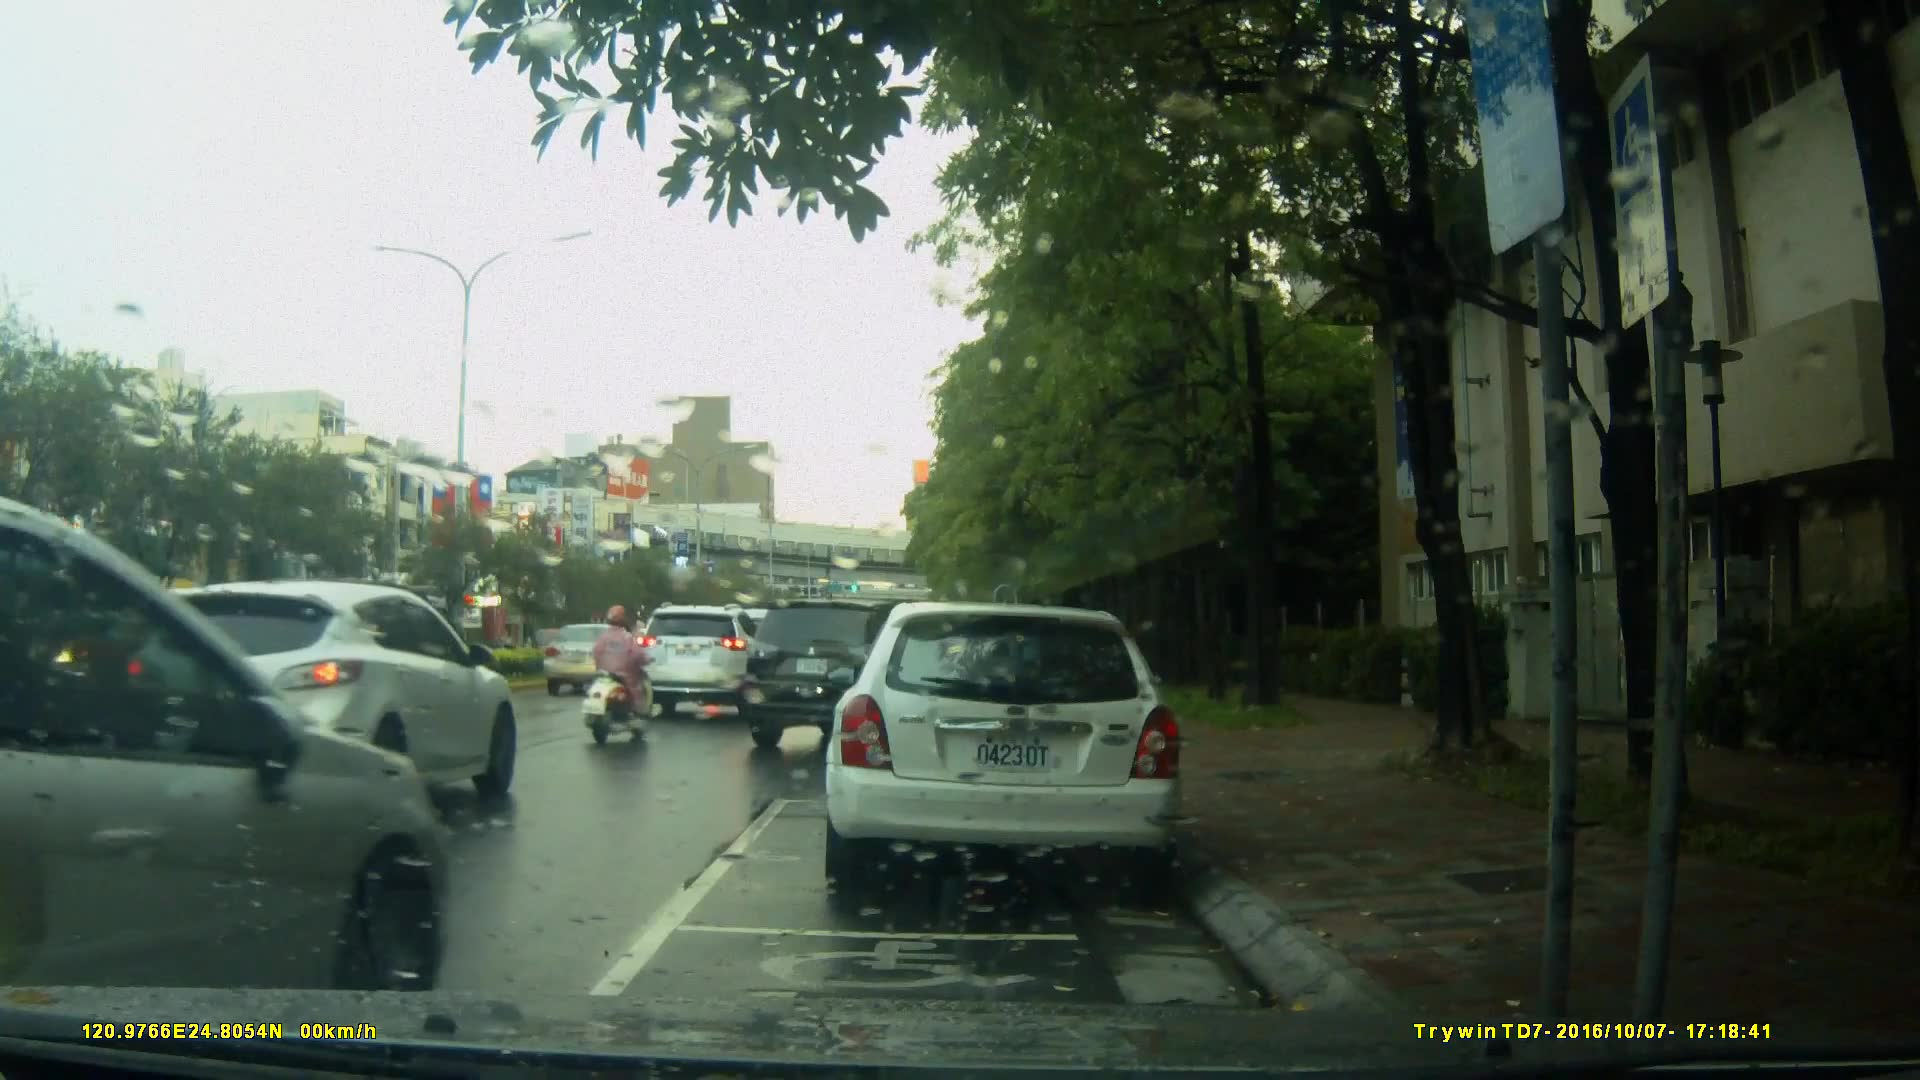rider: (586, 602, 661, 751)
vehicle: (1, 492, 459, 992), (820, 602, 1188, 898), (117, 578, 521, 823), (740, 598, 974, 756), (632, 605, 777, 722), (541, 621, 644, 697)
